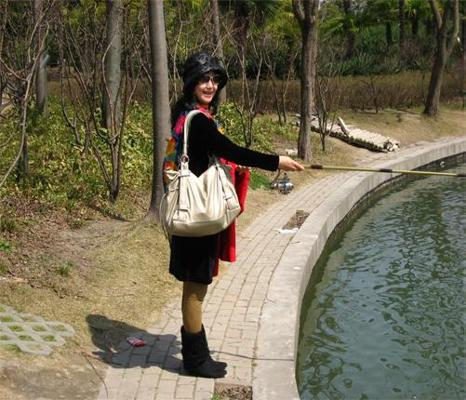person: (162, 51, 305, 380)
